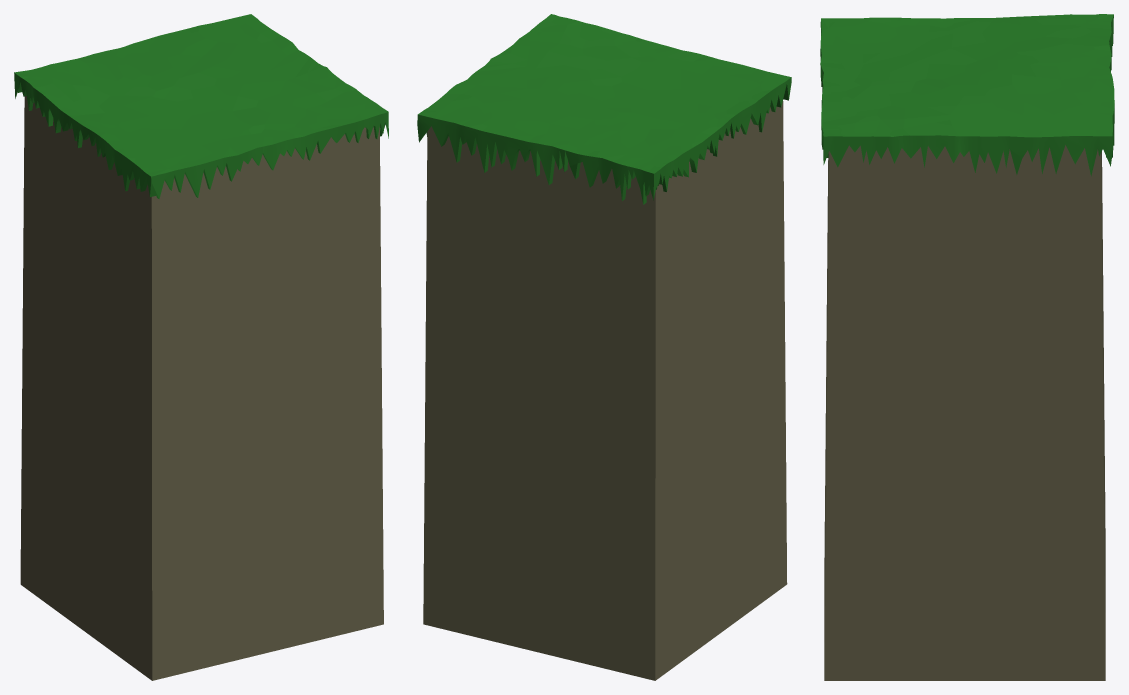
File: grass_layer_square_small.fbx
The picture shows the model from 3 angles, left to right: view 1: azimuth 30°, elevation 25°; view 2: azimuth 150°, elevation 25°; view 3: azimuth 270°, elevation 25°; orthographic projection. The views are drawn at different scales.
Visible parts, largest first — view 1: grass_layer_square_small_base, grass_layer_square_small; view 2: grass_layer_square_small_base, grass_layer_square_small; view 3: grass_layer_square_small_base, grass_layer_square_small.
Boxes of the visible parts, x1,y1,x2,y2 form: grass_layer_square_small_base: (20, 96, 383, 680); grass_layer_square_small: (14, 14, 388, 198); grass_layer_square_small_base: (423, 101, 787, 680); grass_layer_square_small: (417, 14, 791, 204); grass_layer_square_small_base: (824, 145, 1105, 680); grass_layer_square_small: (820, 14, 1114, 176).
Bounding box in the file's own units: 780 × 1589 × 775.
